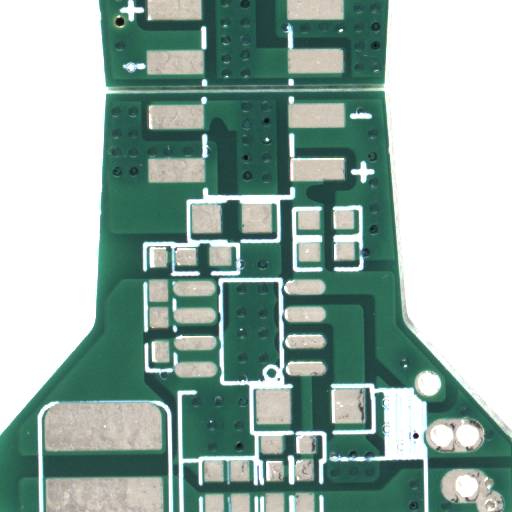Mouse_bite: (316, 194, 335, 213), (218, 124, 237, 140)
